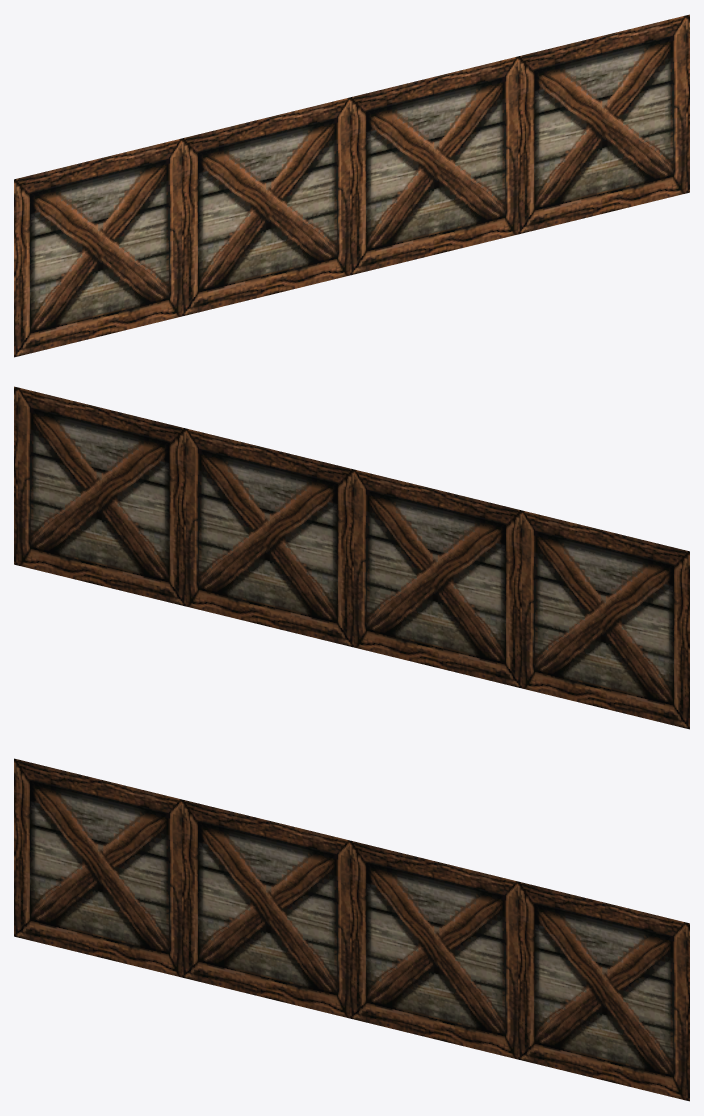
File: LAKETOWN_EXTERIOR_PS_LT_PANEL1879.fbx
3 renders of one model, top to bottom at view 1: azimuth 30°, elevation 25°; view 2: azimuth 150°, elevation 25°; view 3: azimuth 330°, elevation 25°, orthographic.
Parts seen in each view (by area): view 1: LAKETOWN_EXTERIOR_PS_LT_PANEL1879; view 2: LAKETOWN_EXTERIOR_PS_LT_PANEL1879; view 3: LAKETOWN_EXTERIOR_PS_LT_PANEL1879.
Part boxes in pixels (x1,y1,x2,y2): LAKETOWN_EXTERIOR_PS_LT_PANEL1879: (14,14,689,357); LAKETOWN_EXTERIOR_PS_LT_PANEL1879: (14,386,689,729); LAKETOWN_EXTERIOR_PS_LT_PANEL1879: (14,758,689,1101).
Size of the model in its own units: 40669 by 10238 by 0.00167.
1 material, 1 textured.
